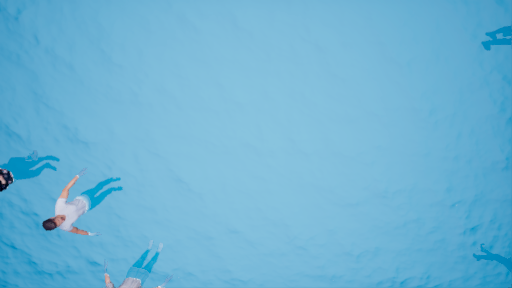person: (43, 164, 132, 239), (106, 240, 177, 288), (1, 151, 59, 191)
